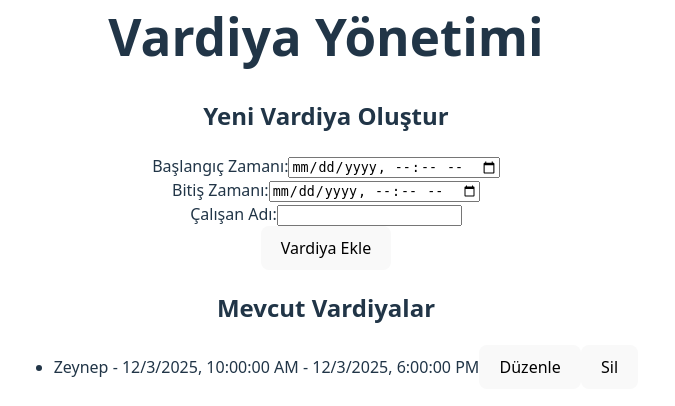
Test: Vardiya Yönetimi › kullanıcı vardiya güncelleyebilmeli
This screenshot has width=675, height=406.
Click the button "Düzenle". click: (530, 368)
box: [479,346,581,389]
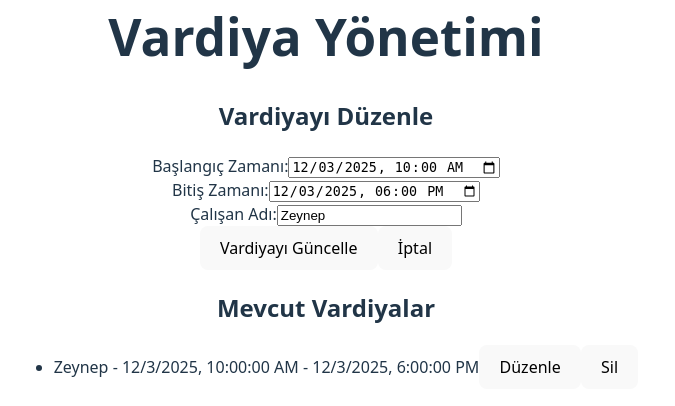
Replace the text in the field named "employee_name" with "Zeynep Kaya". click: (370, 217)
box: [277,206,462,227]
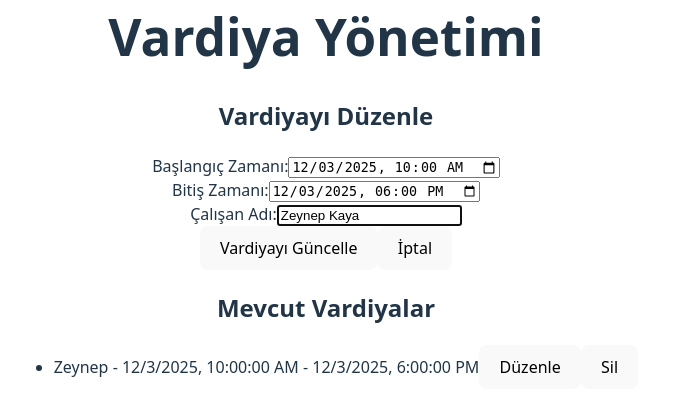
Type "2025-12-03T11:00" into the field named "start_time". click: (394, 168)
box: [288,157,499,178]
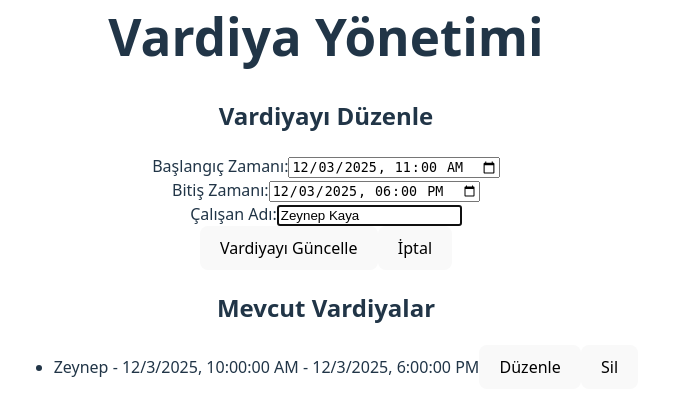
Type "2025-12-03T19:00" into the field named "end_time". click: (375, 192)
box: [269,181,480,202]
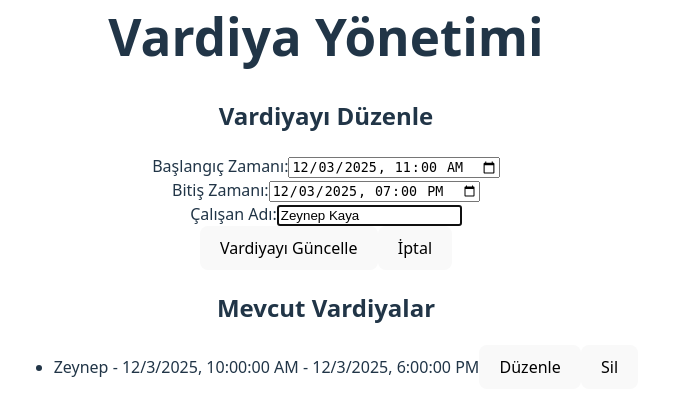
Click the submit button. click: (289, 249)
box: [200,227,378,270]
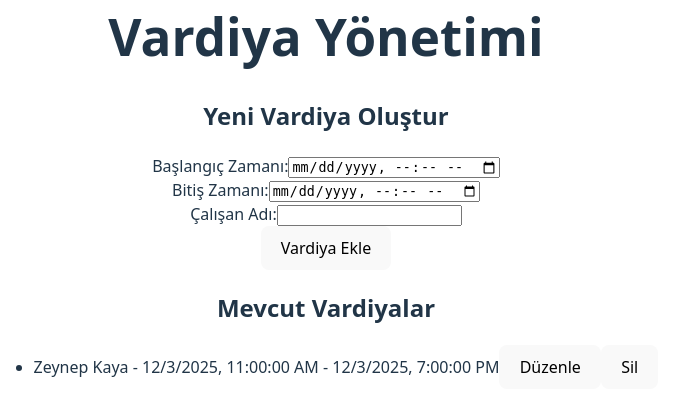
Now the list item "Zeynep Kaya" is shown, box [34,356,129,378]
